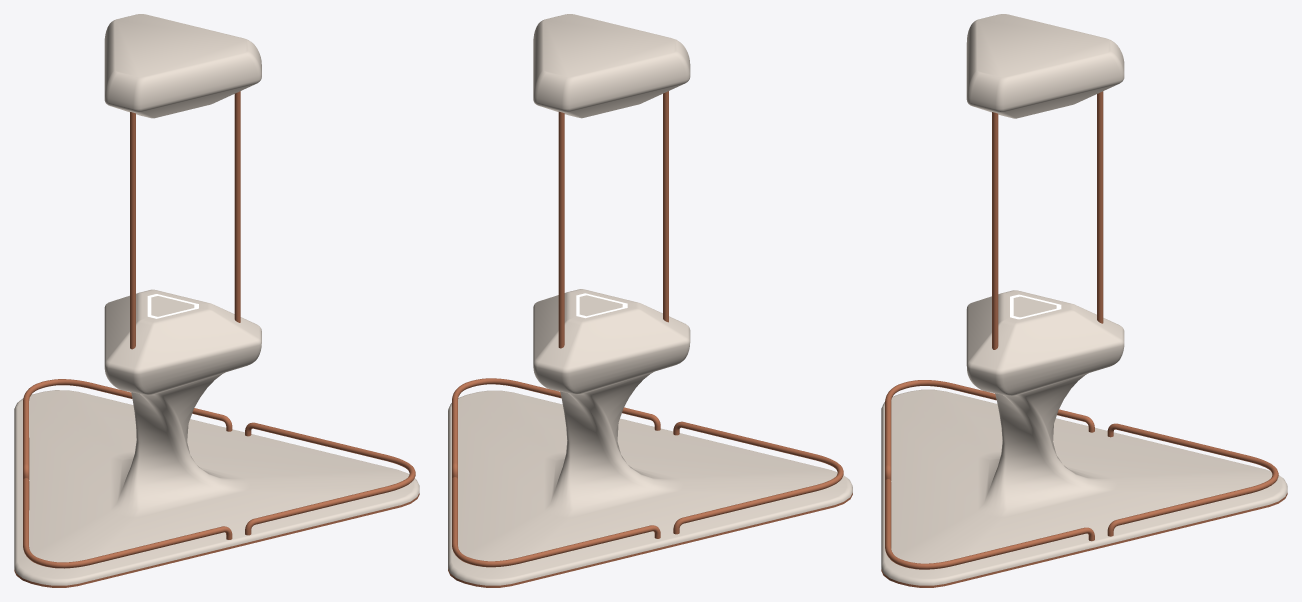
File: VRGallerySidePiece.glb
The picture shows the model from 3 angles, left to right: view 1: azimuth 30°, elevation 25°; view 2: azimuth 150°, elevation 25°; view 3: azimuth 270°, elevation 25°; orthographic projection.
Visible parts, largest first — view 1: Center; view 2: Center; view 3: Center.
Boxes of the visible parts, x1=… form: Center: x1=14, y1=14, x2=419, y2=587; Center: x1=448, y1=14, x2=852, y2=587; Center: x1=881, y1=14, x2=1287, y2=587.
Size of the model in its own units: 1.48 by 1.6 by 1.32.
